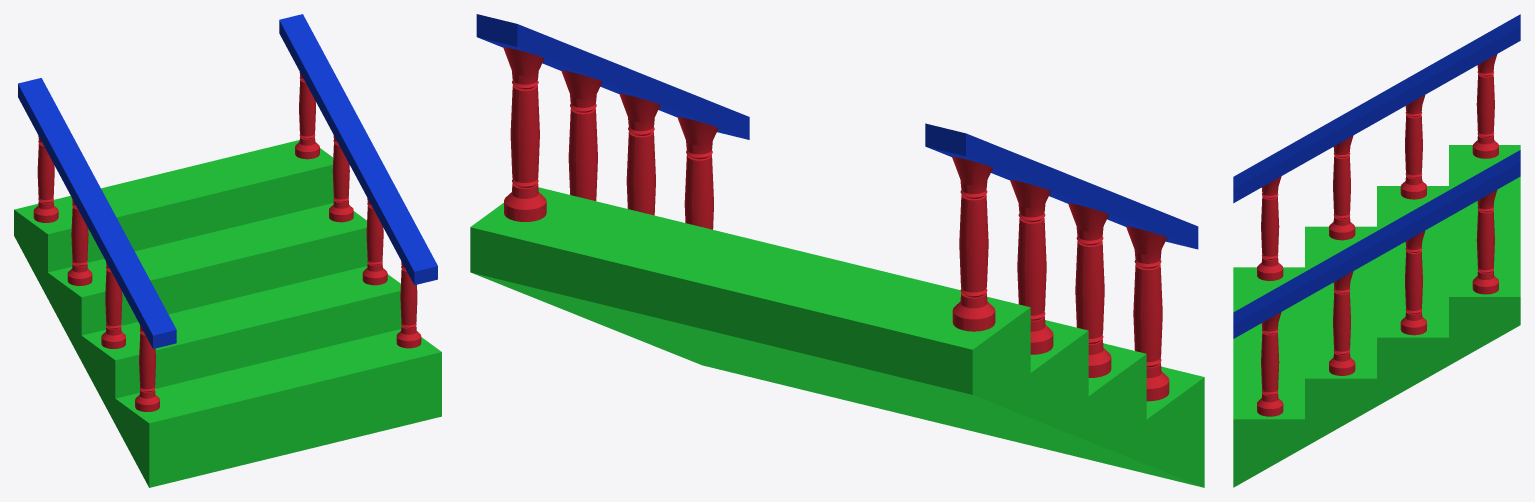
File: Unity HD Render Pipeline (Metallic Standard).fbx
The picture shows the model from 3 angles, left to right: view 1: azimuth 30°, elevation 25°; view 2: azimuth 150°, elevation 25°; view 3: azimuth 270°, elevation 25°; orthographic projection. The views are drawn at different scales.
Parts seen in each view (by area): view 1: InteriorStrairsRepetition (×3); view 2: InteriorStrairsRepetition (×3); view 3: InteriorStrairsRepetition (×3).
Boxes of the visible parts, left/top/right/bottom form: InteriorStrairsRepetition (×3): left=14, top=14, right=441, bottom=487; InteriorStrairsRepetition (×3): left=470, top=14, right=1204, bottom=487; InteriorStrairsRepetition (×3): left=1233, top=14, right=1520, bottom=487.
Size of the model in its own units: 2 by 1.99 by 1.6.
